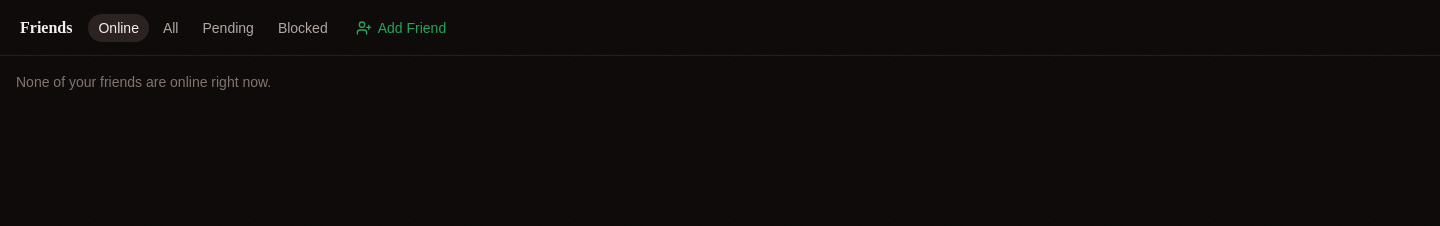
Test: FriendsPage › shows why the server refused a request
Click the button "Add Friend".
click(401, 28)  # box [346,14,456,42]
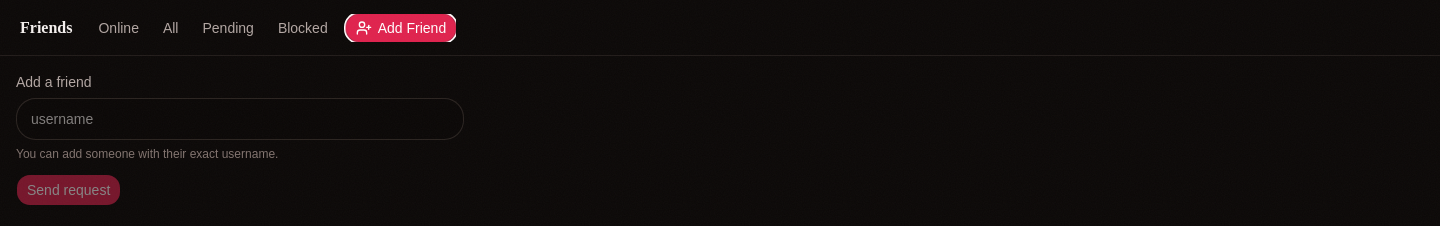
Type "nobody" into the field labelled "Add a friend".
click(240, 119); type("nobody")  # box [16,98,464,140]
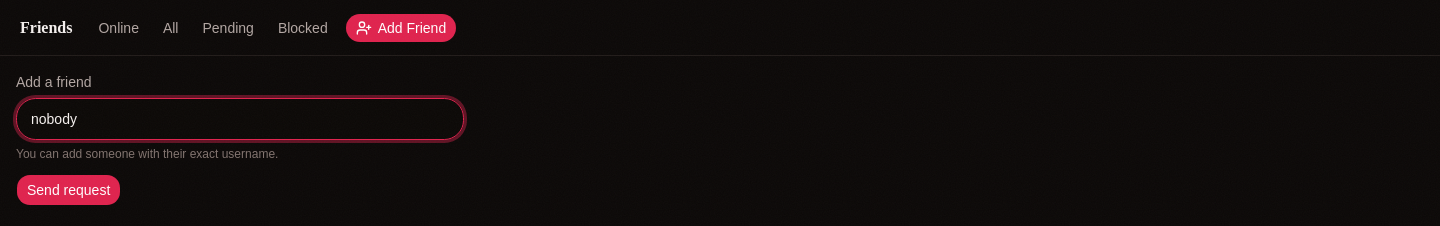
Click the button "Send request".
click(69, 190)  # box [16,174,121,206]
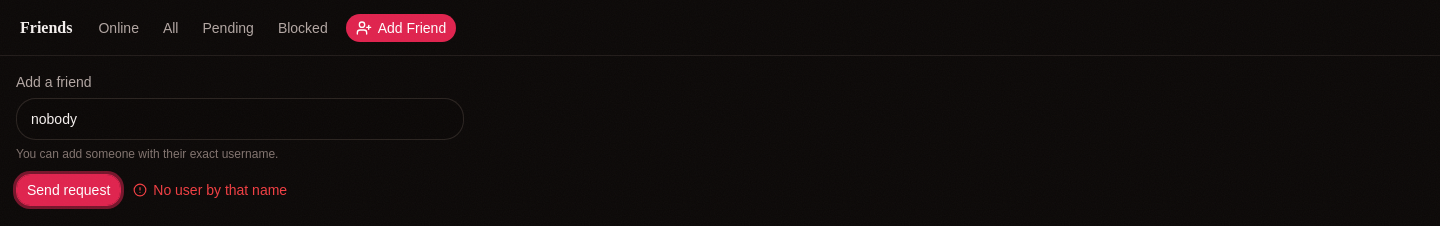
Expected: the message reads "No user by that name", [153,182,287,198]
